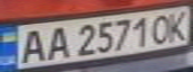1: (130, 14, 154, 47)
2: (72, 20, 100, 57)
5: (93, 19, 118, 54)
7: (112, 16, 136, 51)
A: (15, 26, 51, 64), (42, 24, 72, 61)
K: (163, 7, 193, 42)
O: (148, 11, 175, 44)
